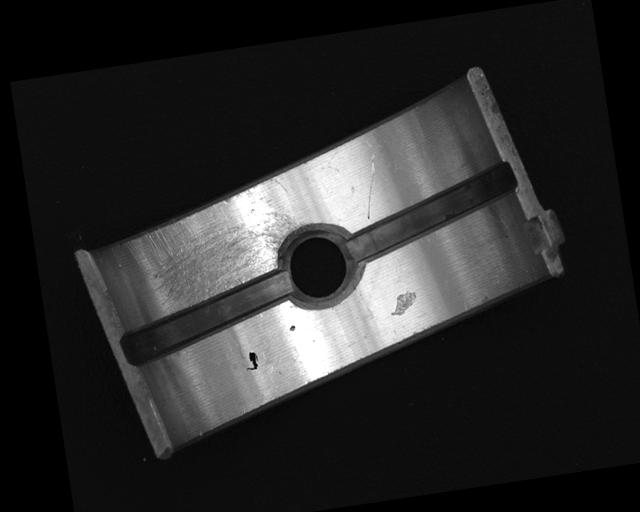blot: (242, 350, 260, 372)
bruise: (387, 287, 420, 317), (288, 325, 296, 332)
gap: (339, 162, 522, 266), (114, 271, 301, 368)
hole: (273, 220, 367, 313)
nick: (357, 153, 383, 220)
scratch: (116, 174, 308, 326)
